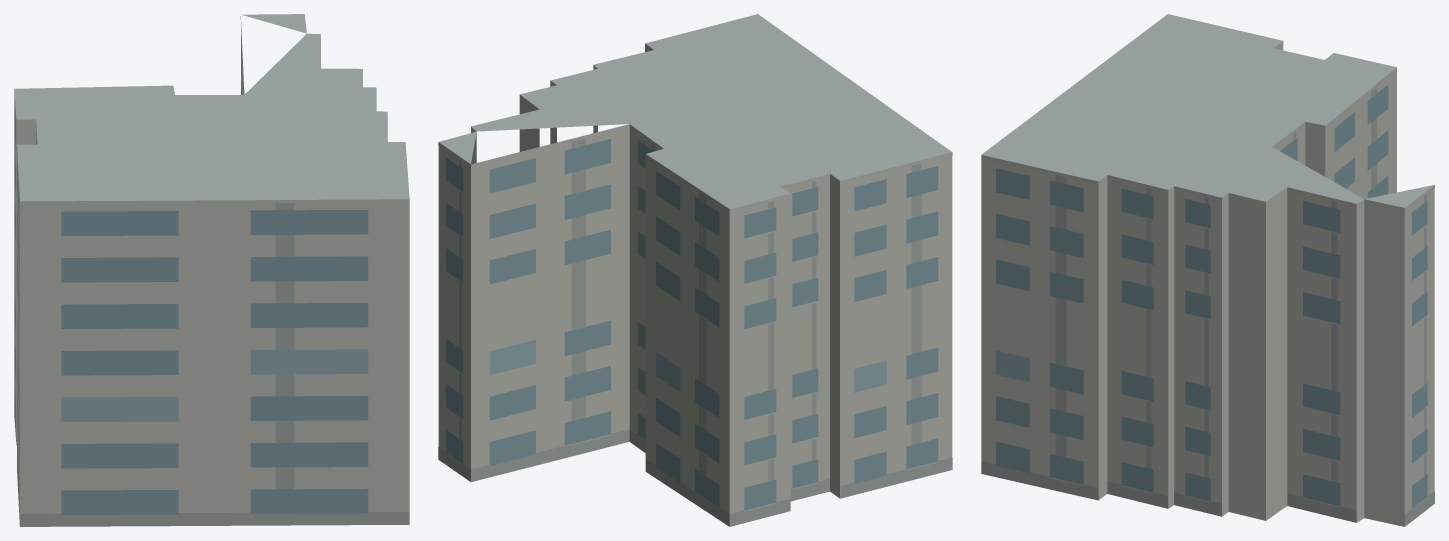
Rendered from survey-upis-32870978.glb.
The picture shows the model from 3 angles, left to right: view 1: azimuth 30°, elevation 25°; view 2: azimuth 150°, elevation 25°; view 3: azimuth 270°, elevation 25°; orthographic projection. The views are drawn at different scales.
Visible parts, largest first — view 1: survey-upis-32870978.tmp; view 2: survey-upis-32870978.tmp; view 3: survey-upis-32870978.tmp.
Boxes of the visible parts, <box> form: survey-upis-32870978.tmp: <box>14,14,409,526</box>; survey-upis-32870978.tmp: <box>438,14,952,526</box>; survey-upis-32870978.tmp: <box>981,14,1434,526</box>.
Size of the model in its own units: 30.51 by 23.39 by 30.15.
